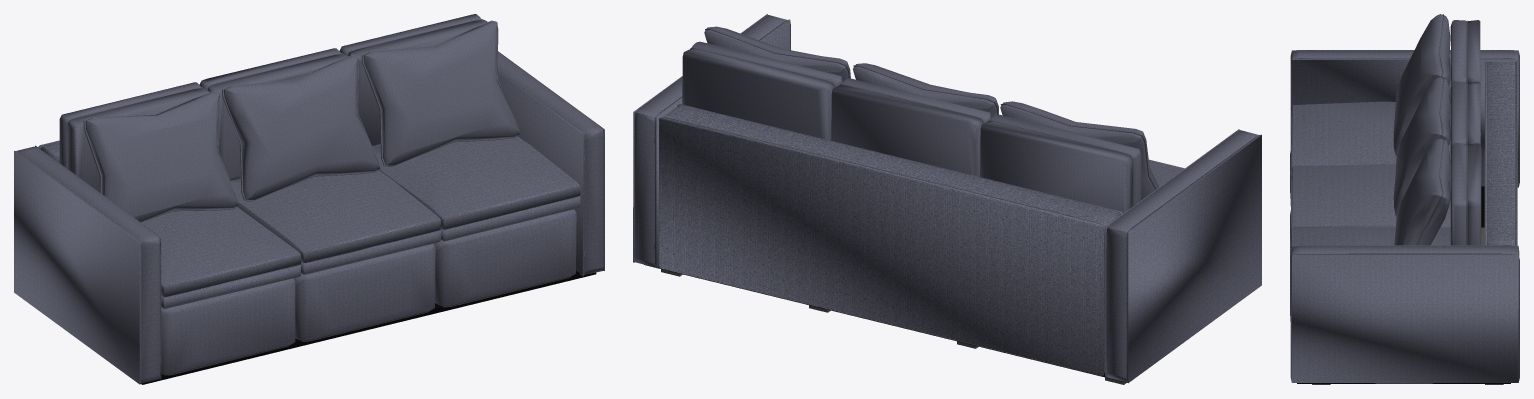
Rendered from floqer_sofa.glb.
3 views of the same model, side by side, from view 1: azimuth 30°, elevation 25°; view 2: azimuth 150°, elevation 25°; view 3: azimuth 270°, elevation 25° (orthographic). The views are drawn at different scales.
Visible parts, largest first — view 1: Cube.006, Cube.016, Cube.015, Cube.014, Cube.005, Cube.001, Cube.004, Cube.003, Cube.002, Cube, Cube.012, Cube.013 (+2 smaller); view 2: Cube.007, Cube.006, Cube.012, Cube.011, Cube.013, Cube.014, Cube.016, Cube.015, Plane; view 3: Cube.006, Cube.005, Cube.004, Cube.007, Cube.015, Cube.014, Cube.016, Cube.011, Cube.001, Cube.013, Cube.012, Plane.
Part boxes in pixels (x1=…): Cube.006: x1=14, y1=51, x2=604, y2=384; Cube.016: x1=222, y1=55, x2=380, y2=201; Cube.015: x1=361, y1=20, x2=520, y2=166; Cube.014: x1=83, y1=91, x2=238, y2=222; Cube.005: x1=230, y1=170, x2=440, y2=274; Cube.001: x1=372, y1=136, x2=580, y2=241; Cube.004: x1=141, y1=207, x2=301, y2=308; Cube.003: x1=433, y1=209, x2=576, y2=307; Cube.002: x1=294, y1=243, x2=435, y2=341; Cube: x1=161, y1=278, x2=295, y2=375; Cube.012: x1=59, y1=82, x2=209, y2=191; Cube.013: x1=199, y1=48, x2=347, y2=180; Cube.007: x1=659, y1=104, x2=1122, y2=376; Cube.006: x1=633, y1=14, x2=1261, y2=383; Cube.012: x1=980, y1=114, x2=1141, y2=213; Cube.011: x1=682, y1=41, x2=842, y2=140; Cube.013: x1=831, y1=78, x2=990, y2=176; Cube.014: x1=1000, y1=101, x2=1158, y2=199; Cube.016: x1=853, y1=63, x2=998, y2=118; Cube.015: x1=704, y1=26, x2=850, y2=81; Plane: x1=644, y1=264, x2=1126, y2=382; Cube.006: x1=1290, y1=50, x2=1519, y2=382; Cube.005: x1=1290, y1=164, x2=1450, y2=228; Cube.004: x1=1290, y1=101, x2=1481, y2=177; Cube.007: x1=1484, y1=61, x2=1517, y2=245; Cube.015: x1=1394, y1=138, x2=1450, y2=245; Cube.014: x1=1393, y1=14, x2=1450, y2=156; Cube.016: x1=1393, y1=77, x2=1450, y2=216; Cube.011: x1=1450, y1=143, x2=1481, y2=245; Cube.001: x1=1290, y1=227, x2=1450, y2=254; Cube.013: x1=1450, y1=81, x2=1480, y2=148; Cube.012: x1=1450, y1=20, x2=1480, y2=85; Plane: x1=1297, y1=186, x2=1510, y2=383.
Bounding box in the file's own units: 2.2 × 0.9416 × 1.04.
2 materials, 2 textured.
